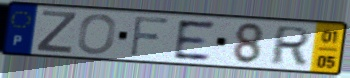8: (231, 21, 266, 66)
E: (173, 19, 217, 62)
F: (127, 14, 172, 58)
O: (76, 12, 119, 56)
R: (267, 25, 314, 67)
Z: (34, 9, 80, 55)
